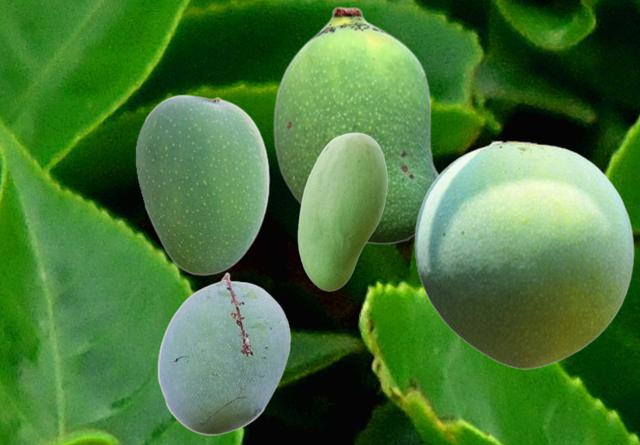green_mango: (414, 139, 633, 368), (273, 6, 438, 244), (135, 94, 269, 274), (157, 272, 290, 434), (297, 132, 386, 290)
